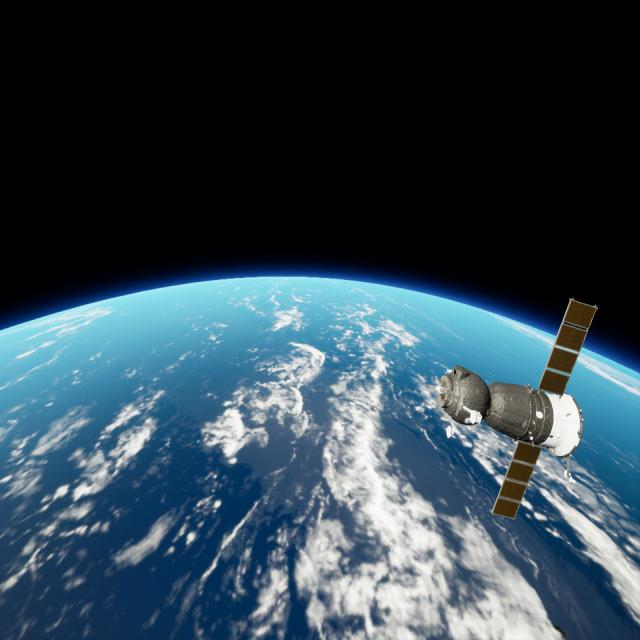Satellites revolving around earth: (1, 274, 639, 638), (435, 294, 599, 522)
